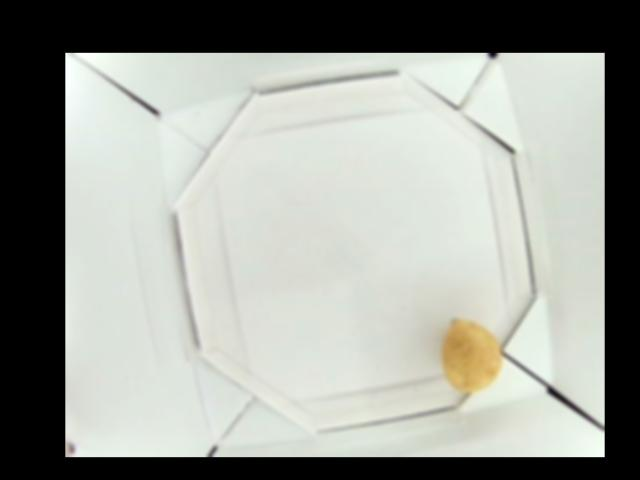Potato: (443, 317, 501, 392)
